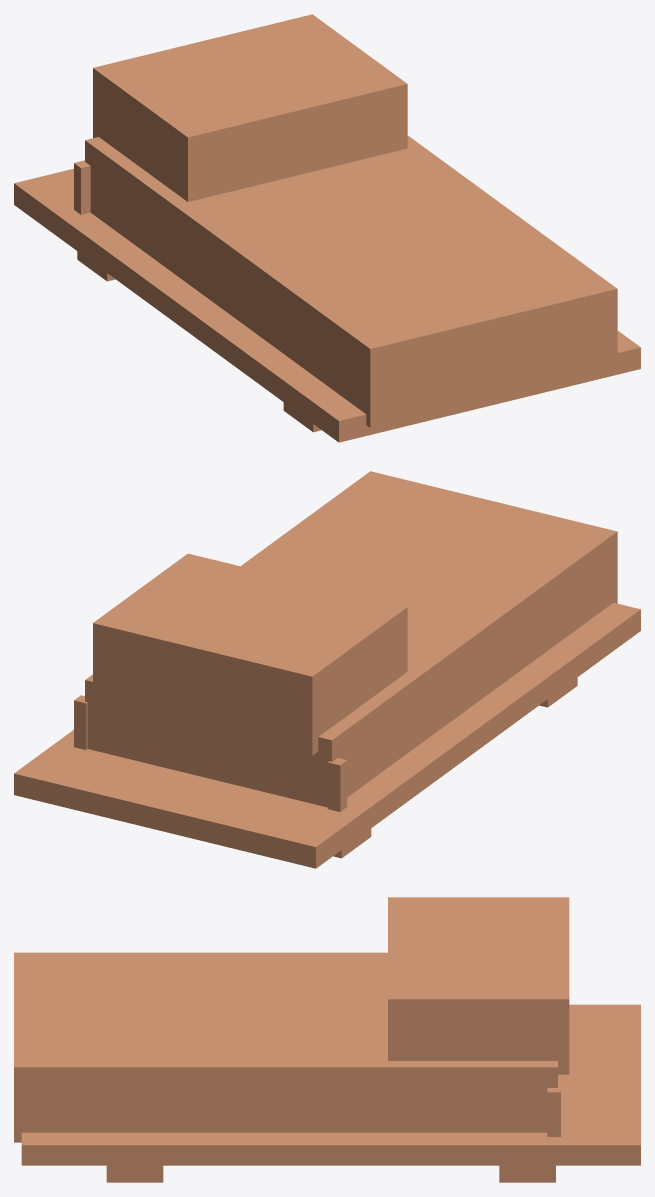
File: low-poly-truck.glb
3 views of the same model, one above another, from view 1: azimuth 30°, elevation 25°; view 2: azimuth 150°, elevation 25°; view 3: azimuth 270°, elevation 25° (orthographic). The views are drawn at different scales.
Parts seen in each view (by area): view 1: LowPolyTruck; view 2: LowPolyTruck; view 3: LowPolyTruck.
Boxes of the visible parts, x1,y1,x2,y2 form: LowPolyTruck: [14, 14, 640, 442]; LowPolyTruck: [14, 471, 640, 868]; LowPolyTruck: [14, 897, 640, 1182].
Size of the model in its own units: 4.4 by 2.52 by 8.3.
